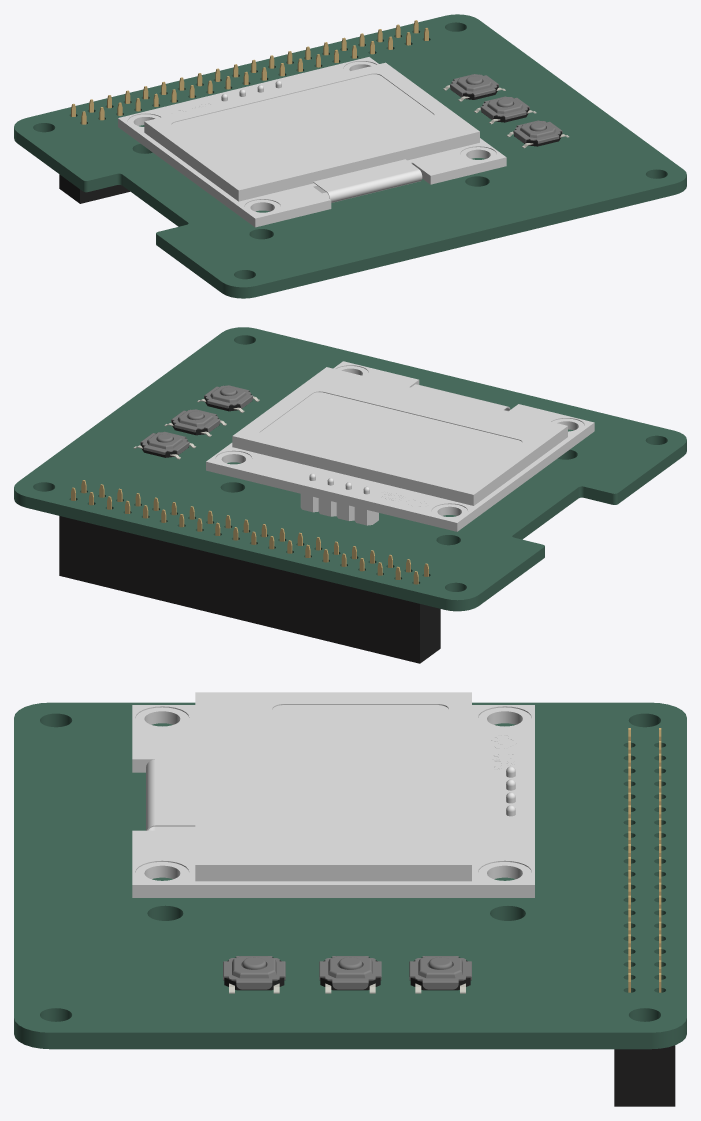
The model's file is equip-1-hat.glb.
The picture shows the model from 3 angles, top to bottom: view 1: azimuth 30°, elevation 25°; view 2: azimuth 150°, elevation 25°; view 3: azimuth 270°, elevation 25°; orthographic projection. The views are drawn at different scales.
Visible parts, largest first — view 1: =>[0:1:1:5], REF** (×4), J1; view 2: =>[0:1:1:5], REF** (×4), J1; view 3: =>[0:1:1:5], REF** (×4), J1.
Boxes of the visible parts, x1=… form: =>[0:1:1:5]: x1=14, y1=14, x2=686, y2=298; REF** (×4): x1=118, y1=57, x2=569, y2=227; J1: x1=59, y1=20, x2=428, y2=203; =>[0:1:1:5]: x1=14, y1=327, x2=686, y2=611; REF** (×4): x1=133, y1=361, x2=594, y2=531; J1: x1=59, y1=480, x2=440, y2=663; =>[0:1:1:5]: x1=14, y1=702, x2=686, y2=1049; REF** (×4): x1=132, y1=692, x2=534, y2=993; J1: x1=614, y1=728, x2=675, y2=1106.
Size of the model in its own units: 0.065 by 0.0154 by 0.056.
